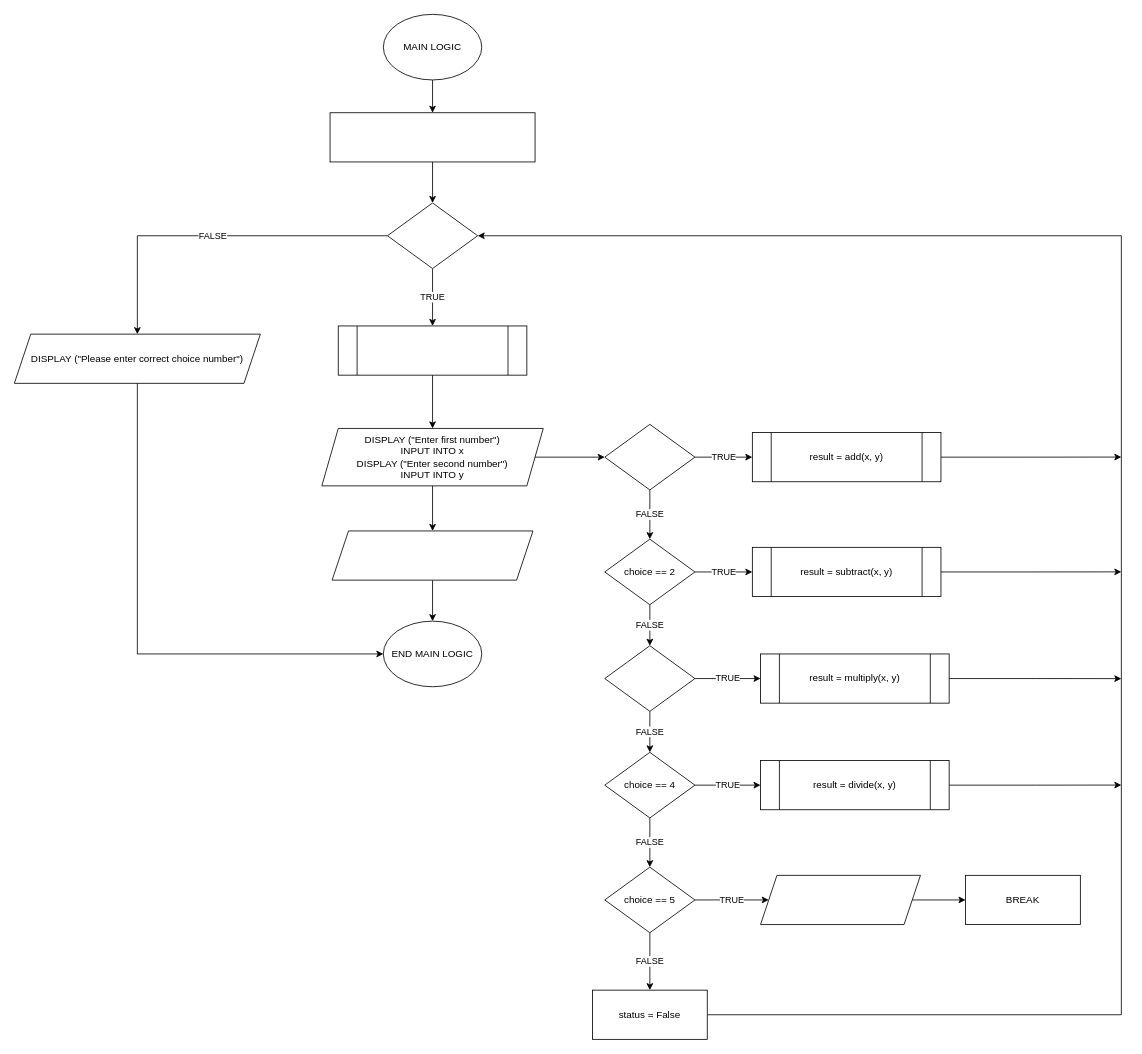
The diagram is 1142 pixels wide and 1054 high, and some of its shapes have lost their labels. Here are the shapes that lost their labels. From the top down, the box of each, then its label:
(329, 112, 535, 162): SET choice = 0 AS INTEGER SET status = True AS BOOLEAN
(387, 202, 478, 269): status == True
(337, 325, 527, 375): choice = choice()
(604, 424, 695, 490): choice == 1
(331, 530, 533, 580): DISPLAY ("Result: " + result)
(604, 645, 695, 711): choice == 3
(760, 875, 920, 925): DISPLAY ("Exited")
